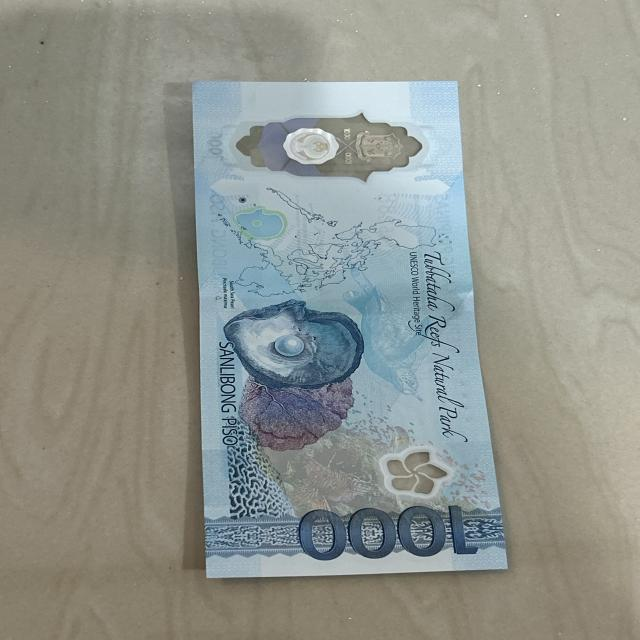clear_window: (222, 112, 426, 188)
sampaguita: (387, 442, 447, 500)
value: (298, 508, 482, 559)
